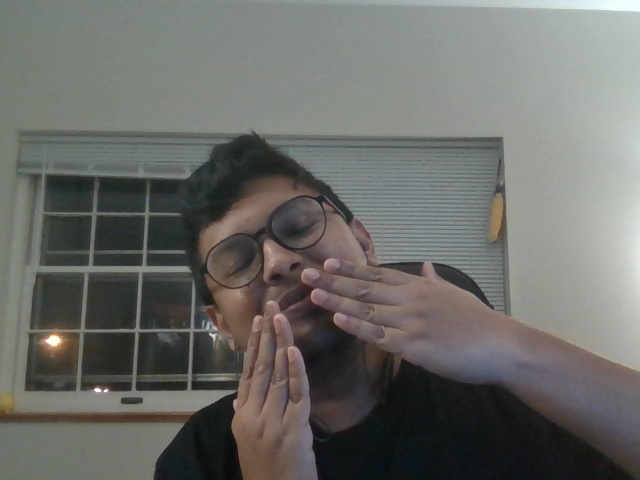thanks: (167, 247, 640, 480)
